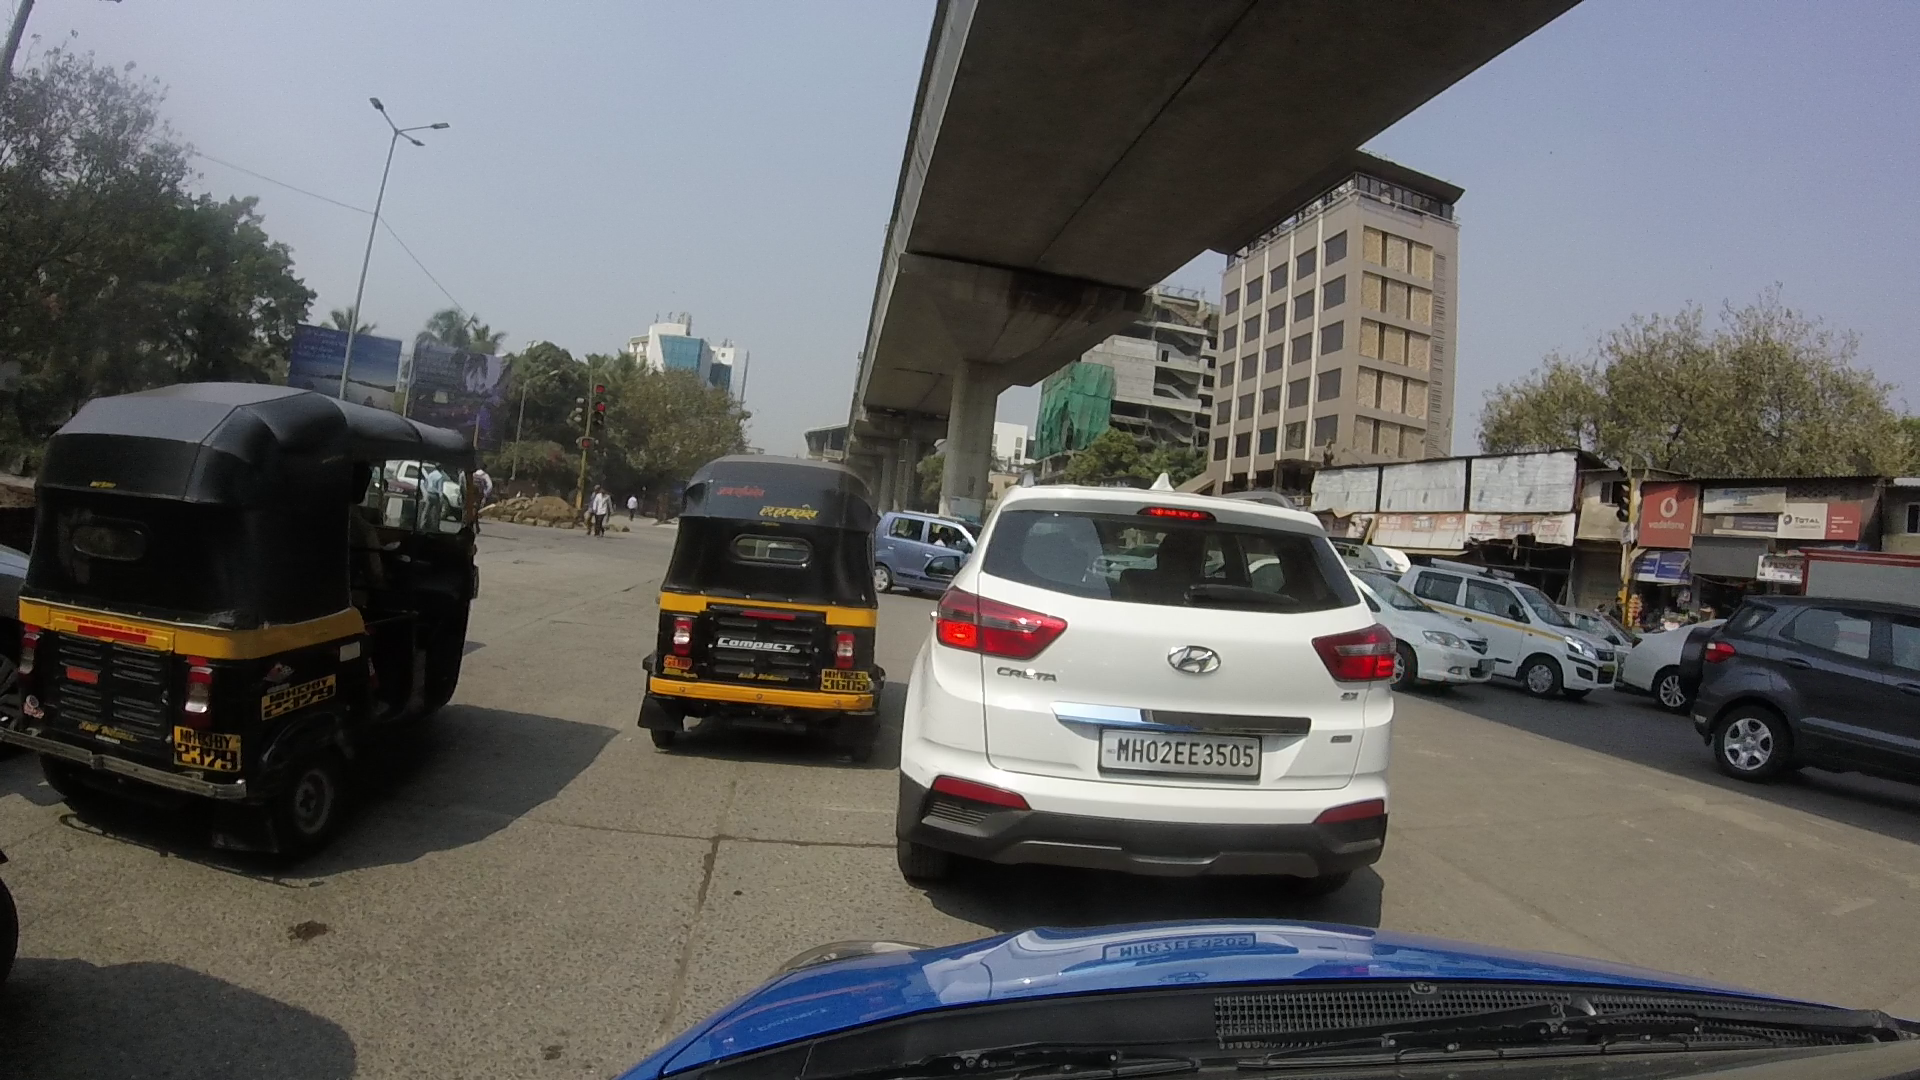car: (889, 469, 1433, 891), (1689, 551, 1917, 819), (1414, 547, 1629, 692), (1344, 553, 1490, 680), (865, 495, 990, 591)
rickshaw: (26, 351, 498, 872), (626, 407, 910, 760)
